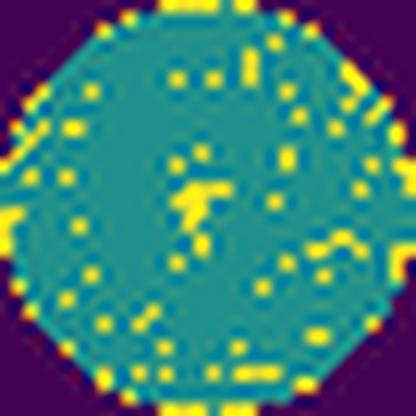Center: (168, 182, 236, 240)
